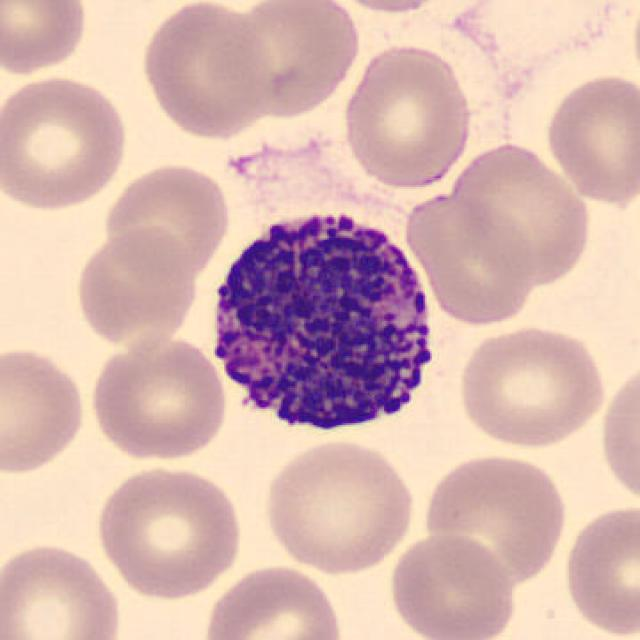Basophil: (197, 192, 448, 448)
RBC: (258, 436, 420, 576), (91, 460, 247, 601), (448, 140, 594, 288), (339, 41, 476, 192), (420, 450, 570, 587), (453, 321, 610, 449), (85, 329, 231, 464), (137, 0, 275, 141), (0, 70, 133, 213), (208, 0, 363, 122), (404, 190, 538, 328), (99, 159, 233, 282), (71, 224, 199, 347), (384, 529, 519, 640), (540, 69, 638, 208), (0, 537, 126, 640), (0, 342, 91, 478), (199, 560, 348, 640), (560, 501, 638, 638), (0, 0, 90, 79), (596, 354, 638, 515), (324, 0, 461, 16)
